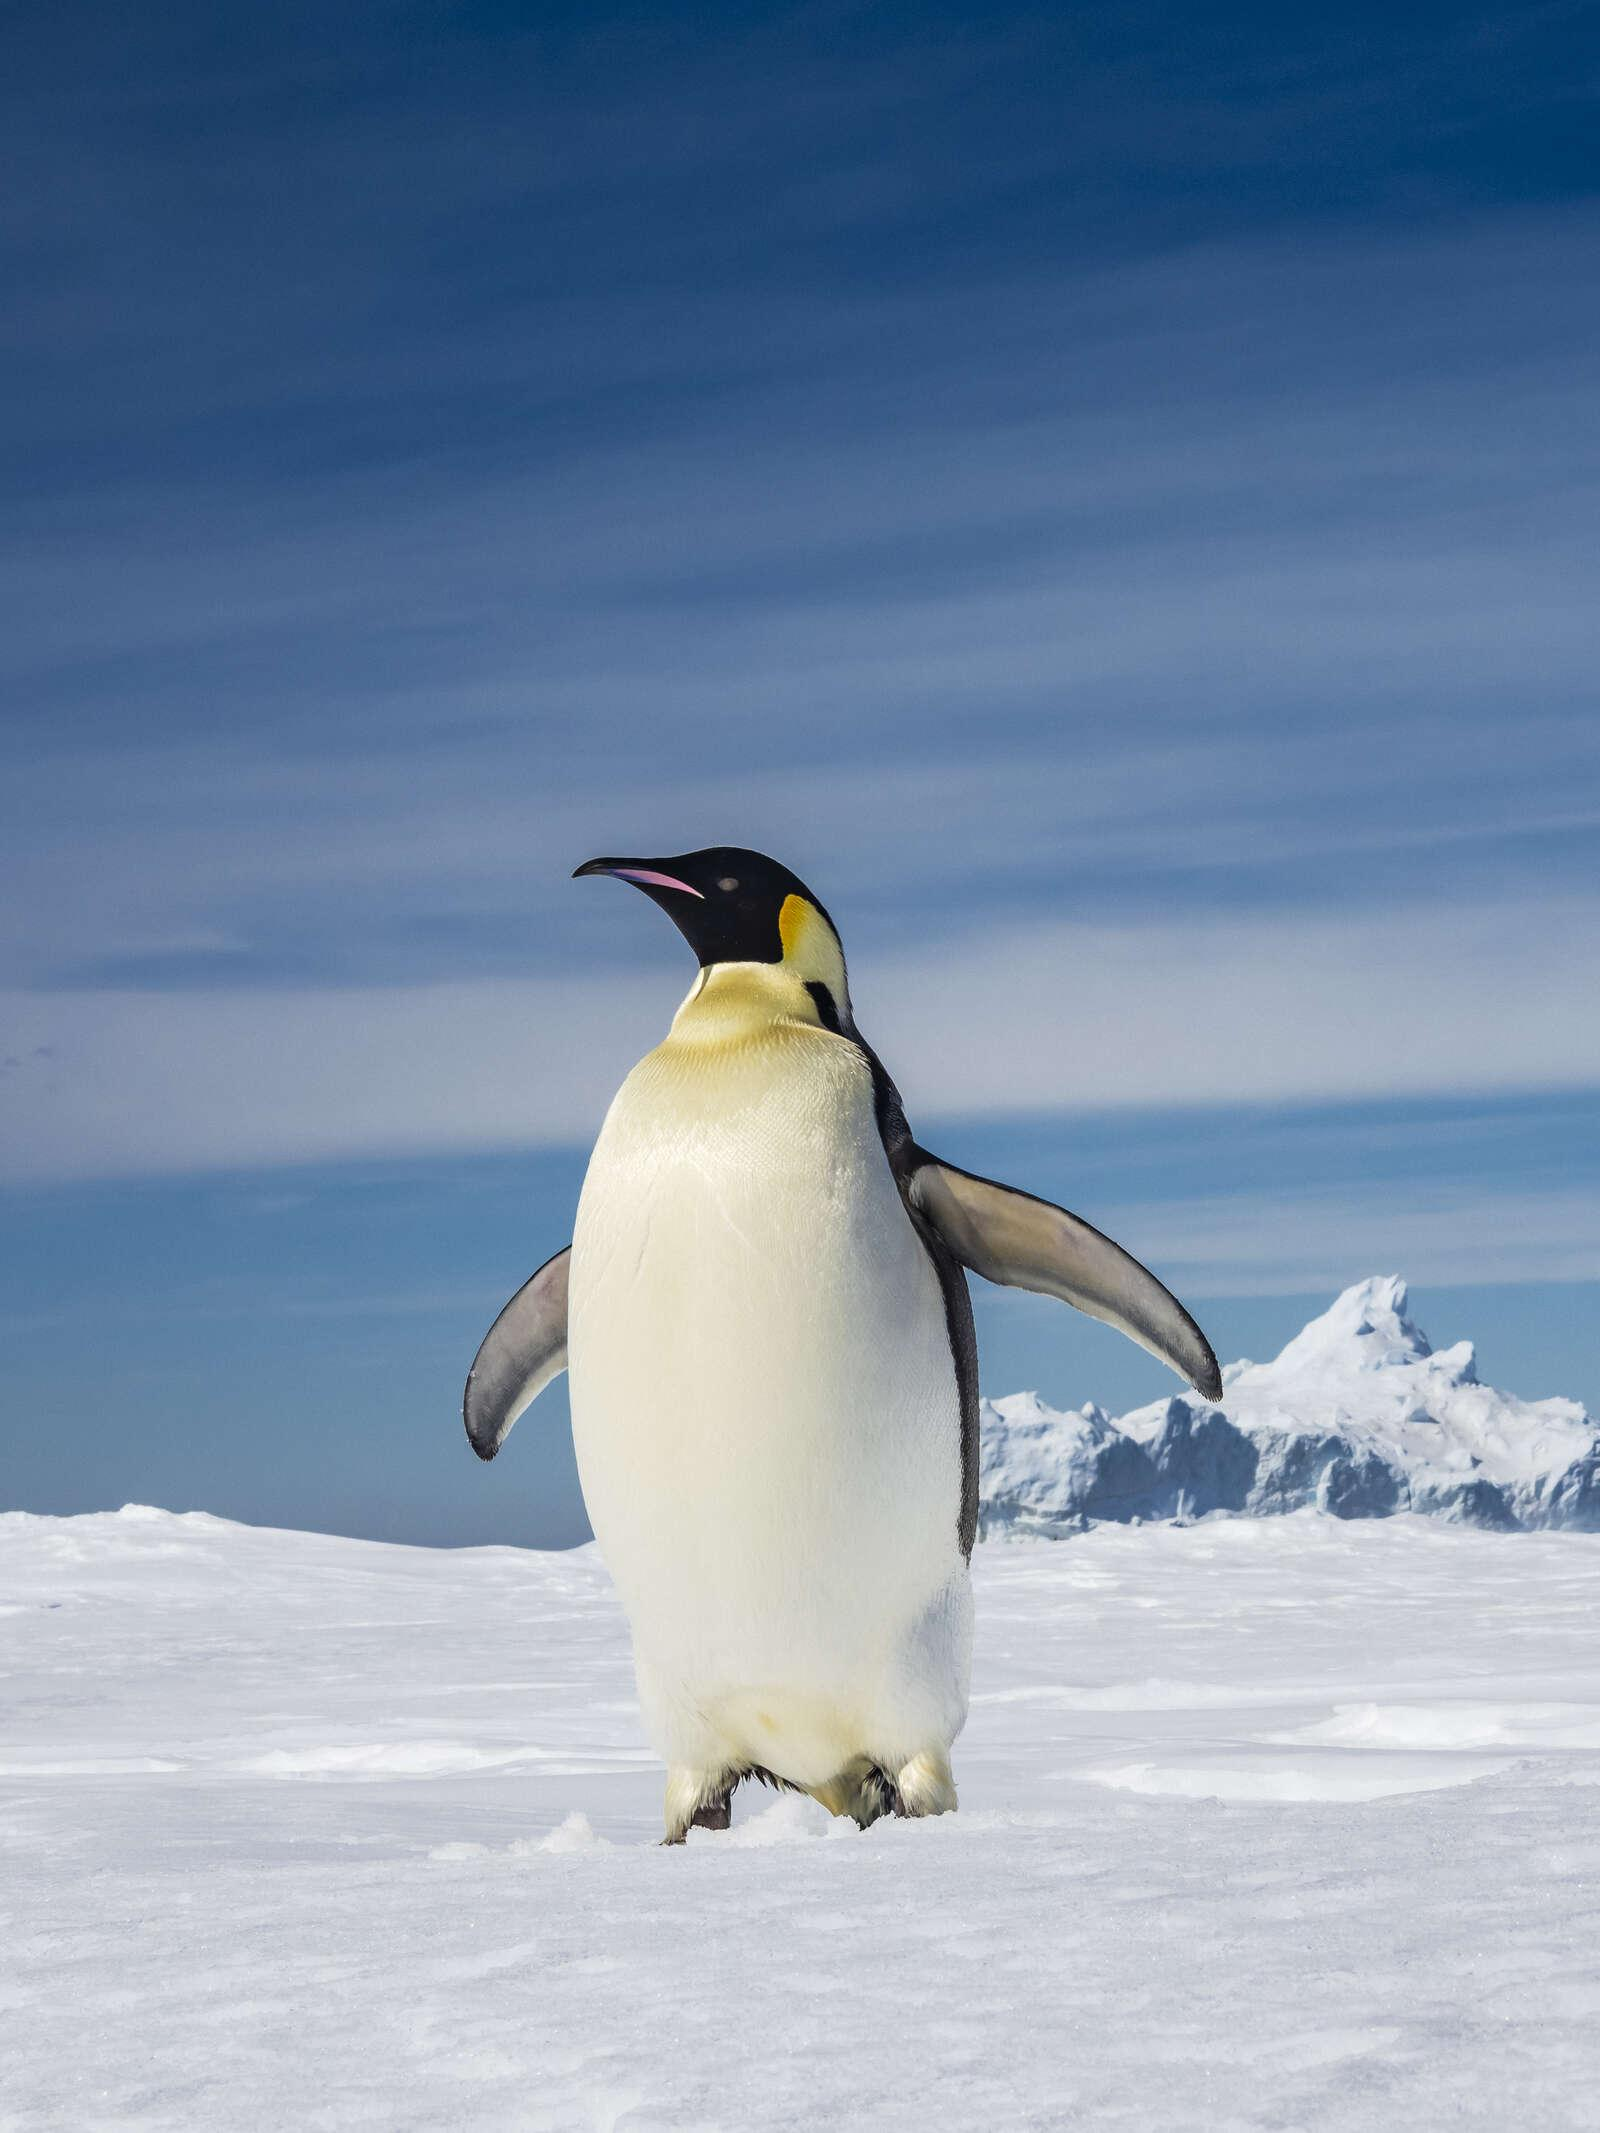emporer: (387, 765, 1155, 1883)
